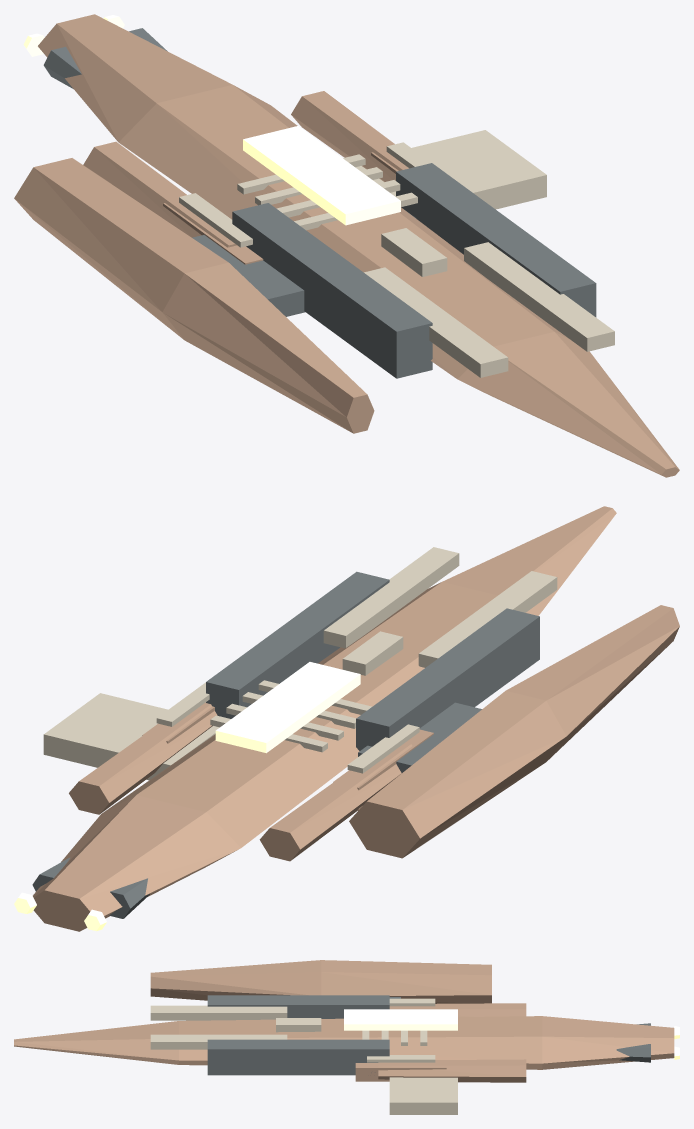
3 views of the same model, one above another, from view 1: azimuth 30°, elevation 25°; view 2: azimuth 150°, elevation 25°; view 3: azimuth 270°, elevation 25° (orthographic). The views are drawn at different scales.
Bounding box in the file's own units: 5.47 × 0.9056 × 12.75.
